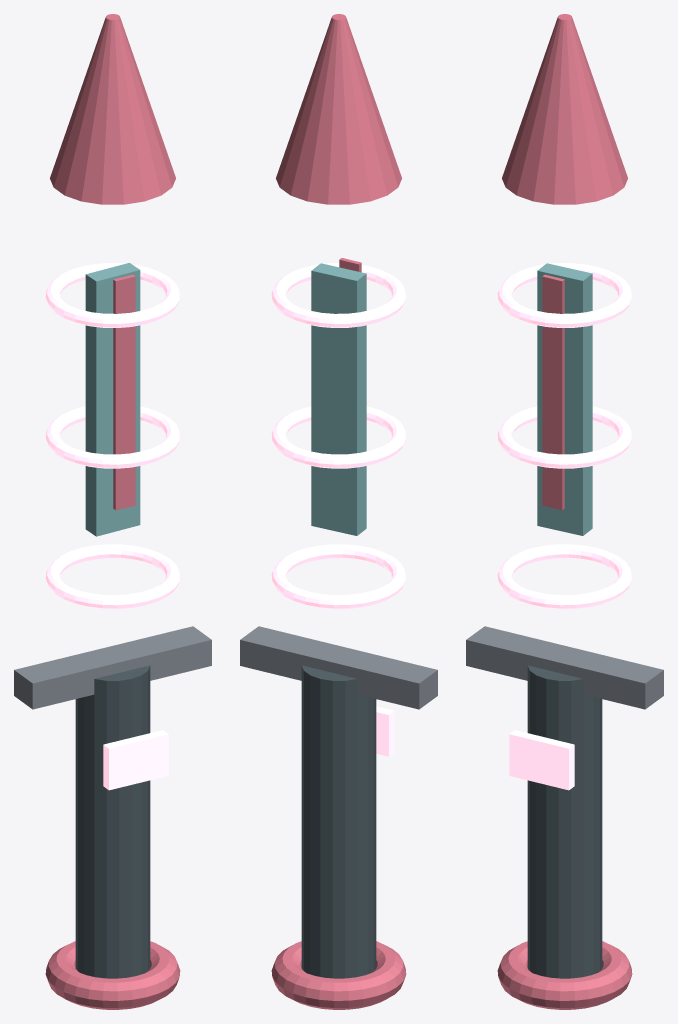
The model's file is asset.glb.
3 renders of one model, left to right at view 1: azimuth 30°, elevation 25°; view 2: azimuth 150°, elevation 25°; view 3: azimuth 330°, elevation 25°, orthographic.
Visible parts, largest first — view 1: Grip, BladeTip, BladeCore, Guard, Pommel, BladeEdge, EnergyBand_1.18, EnergyBand_2.26, EnergyBand_1.72, IdentityPlate; view 2: Grip, BladeTip, BladeCore, Guard, Pommel, EnergyBand_1.18, EnergyBand_2.26, EnergyBand_1.72, IdentityPlate; view 3: Grip, BladeTip, BladeCore, Guard, Pommel, BladeEdge, EnergyBand_1.18, EnergyBand_2.26, EnergyBand_1.72, IdentityPlate.
Boxes of the visible parts, x1,y1,x2,y2 form: Grip: (75, 665, 150, 978); BladeTip: (50, 14, 175, 204); BladeCore: (85, 263, 140, 536); Guard: (14, 626, 211, 709); Pommel: (45, 941, 180, 1009); BladeEdge: (113, 274, 135, 510); EnergyBand_1.18: (45, 544, 180, 609); EnergyBand_2.26: (45, 263, 180, 327); EnergyBand_1.72: (45, 406, 180, 468); IdentityPlate: (103, 730, 168, 790); Grip: (301, 665, 376, 978); BladeTip: (276, 14, 401, 204); BladeCore: (311, 263, 366, 535); Guard: (240, 626, 437, 709); Pommel: (271, 941, 406, 1009); EnergyBand_1.18: (271, 544, 406, 609); EnergyBand_2.26: (271, 263, 406, 327); EnergyBand_1.72: (271, 406, 406, 468); IdentityPlate: (376, 706, 394, 756); Grip: (527, 665, 602, 978); BladeTip: (502, 14, 627, 204); BladeCore: (537, 263, 592, 535); Guard: (466, 626, 663, 709); Pommel: (497, 941, 632, 1009); BladeEdge: (542, 274, 564, 510); EnergyBand_1.18: (497, 544, 632, 609); EnergyBand_2.26: (497, 263, 632, 327); EnergyBand_1.72: (497, 406, 632, 468); IdentityPlate: (509, 730, 574, 790).
Bounding box in the file's own units: 0.72 × 3.72 × 0.47.
